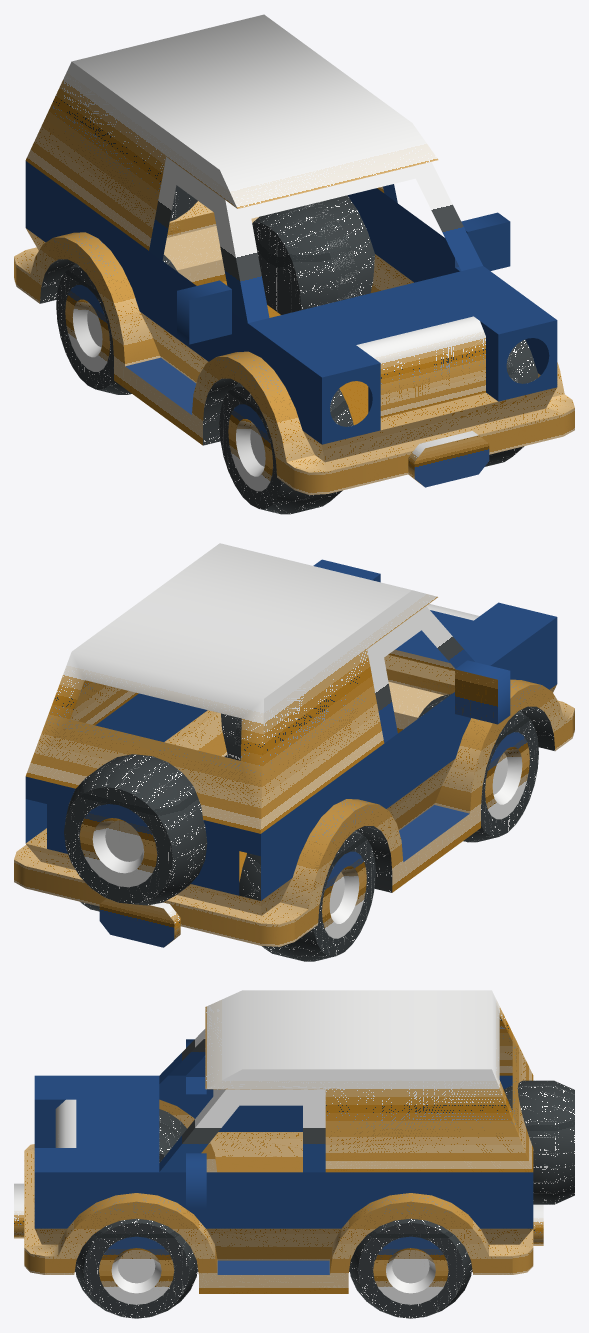
Rendered from car.obj.
3 renders of one model, top to bottom at view 1: azimuth 30°, elevation 25°; view 2: azimuth 150°, elevation 25°; view 3: azimuth 270°, elevation 25°, orthographic. The views are drawn at different scales.
Visible parts, largest first — view 1: body, wheel-back-left, wheel-front-right, wheel-back-right; view 2: body, wheel-back, wheel-back-right, wheel-front-right; view 3: body, wheel-back-left, wheel-front-left, wheel-back, wheel-front-right.
Boxes of the visible parts, left/top/right/bottom form: body: left=14, top=14, right=574, bottom=494; wheel-back-left: left=252, top=202, right=358, bottom=314; wheel-front-right: left=219, top=382, right=353, bottom=514; wheel-back-right: left=56, top=254, right=177, bottom=394; body: left=14, top=543, right=574, bottom=947; wheel-back: left=64, top=754, right=207, bottom=905; wheel-back-right: left=239, top=830, right=375, bottom=961; wheel-front-right: left=417, top=693, right=538, bottom=842; body: left=14, top=990, right=543, bottom=1293; wheel-back-left: left=349, top=1218, right=472, bottom=1318; wheel-front-left: left=75, top=1218, right=197, bottom=1318; wheel-back: left=503, top=1080, right=574, bottom=1204; wheel-front-right: left=159, top=1122, right=179, bottom=1162.
Bounding box in the file's own units: 1.5 × 1.3 × 2.7.
